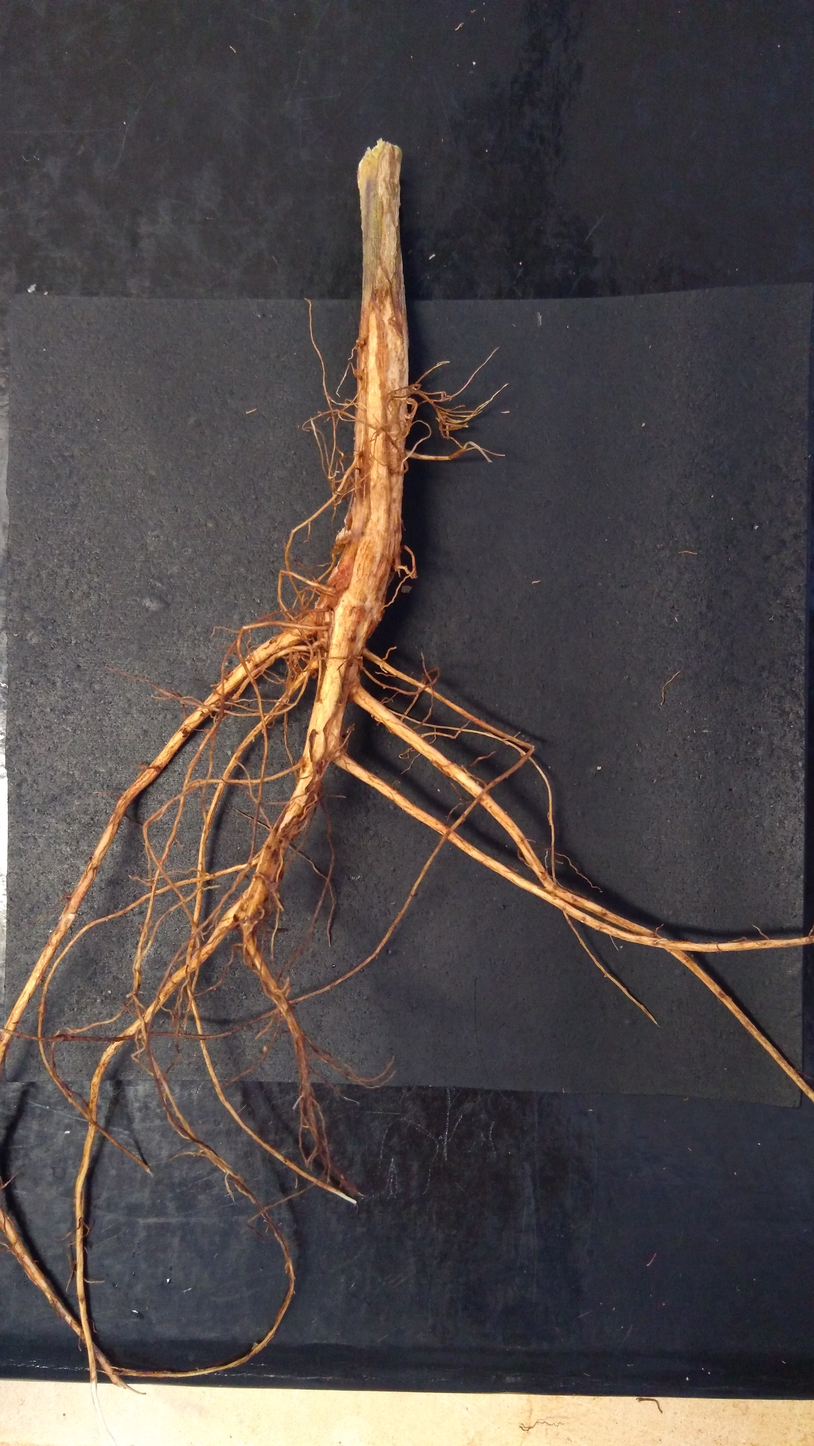nodule: (335, 526, 352, 545), (316, 629, 329, 647), (287, 652, 301, 668), (332, 540, 346, 555), (344, 511, 353, 530), (346, 725, 355, 734), (356, 337, 365, 345), (442, 414, 447, 419)
